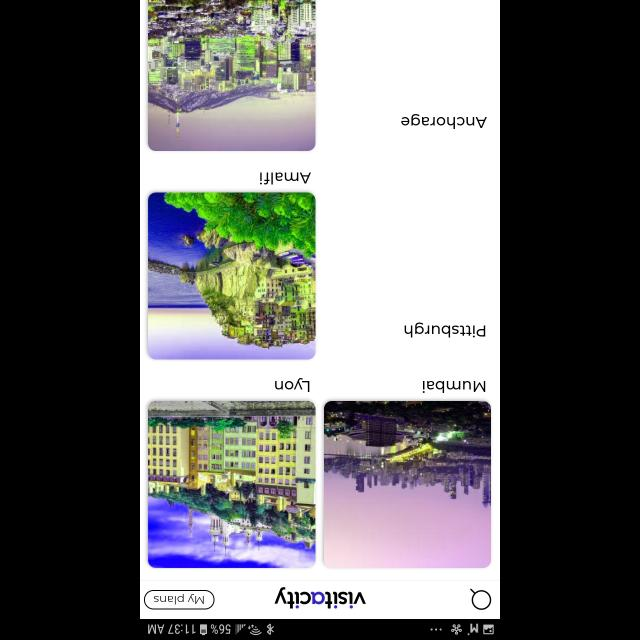icon: (469, 588, 491, 610)
image: (148, 400, 316, 568), (148, 192, 316, 360), (324, 400, 491, 568), (148, 0, 316, 152), (274, 587, 366, 609)
text: (401, 114, 487, 130), (404, 322, 484, 338), (422, 380, 486, 392), (260, 172, 310, 184), (274, 378, 310, 392)
textbutton: (143, 589, 214, 609)
uppertaskbar: (140, 618, 500, 640)
